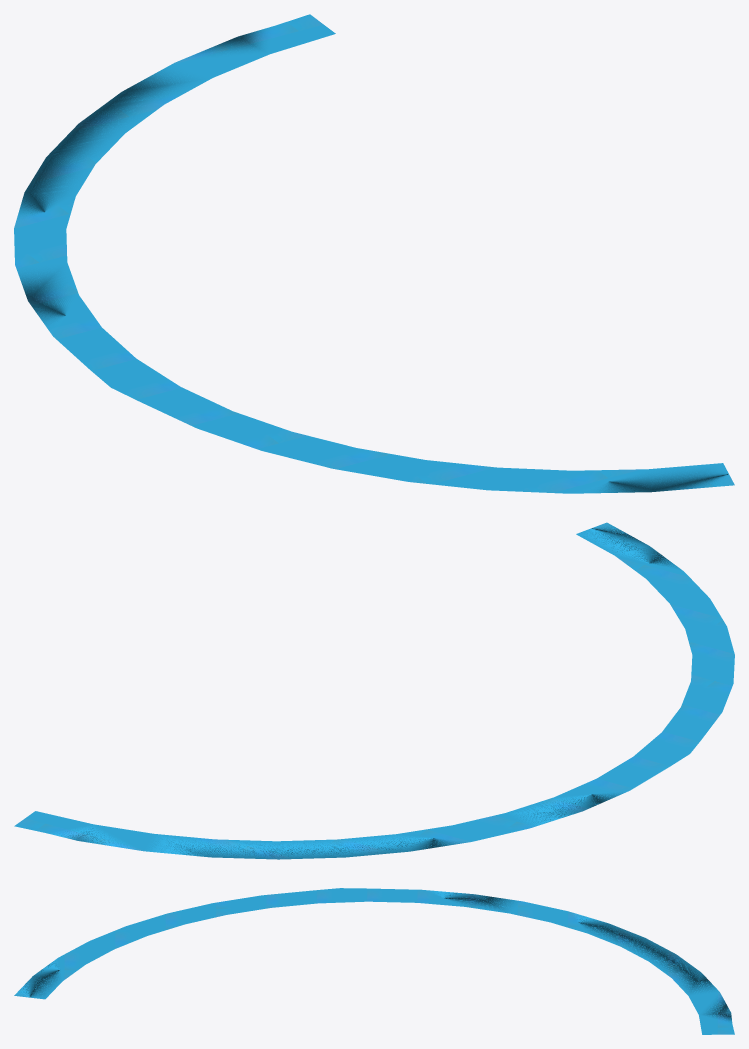
Rendered from fifth_1.obj.
3 views of the same model, one above another, from view 1: azimuth 30°, elevation 25°; view 2: azimuth 150°, elevation 25°; view 3: azimuth 270°, elevation 25° (orthographic). The views are drawn at different scales.
Visible parts, largest first — view 1: Line010; view 2: Line010; view 3: Line010.
Boxes of the visible parts, x1,y1,x2,y2 form: Line010: [14, 14, 734, 493]; Line010: [14, 522, 734, 859]; Line010: [14, 888, 734, 1034].
Size of the model in its own units: 355 by 11.27 by 689.
Materials: 1 (1 with a texture image).
